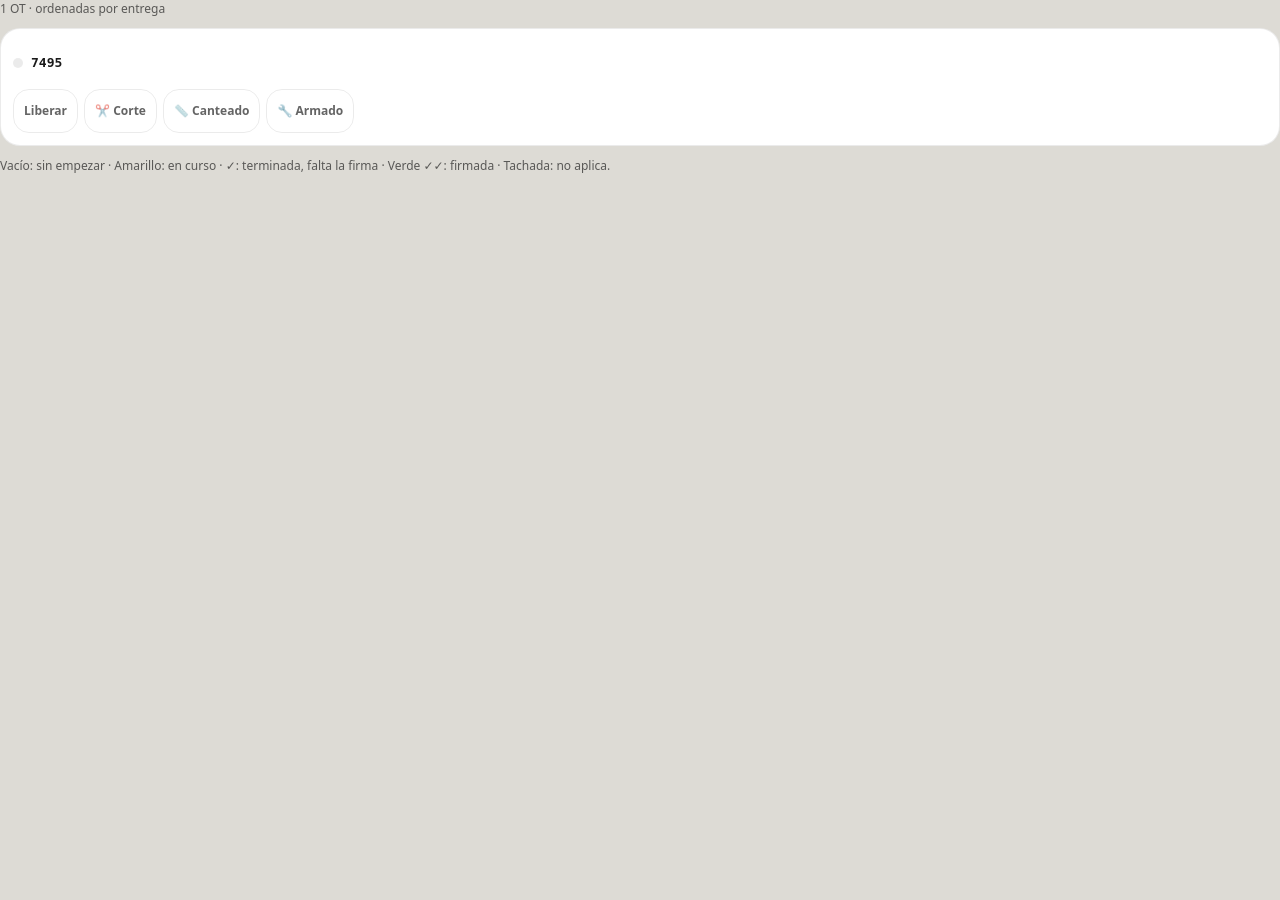
Test: tablero — la condición de cierre de la etapa se ve antes de firmar
The width and height of the screenshot is (1280, 900).
Click the button with aria-label "Armado de la OT 7495: Pendiente".
click(310, 111)  # box [266,89,354,133]
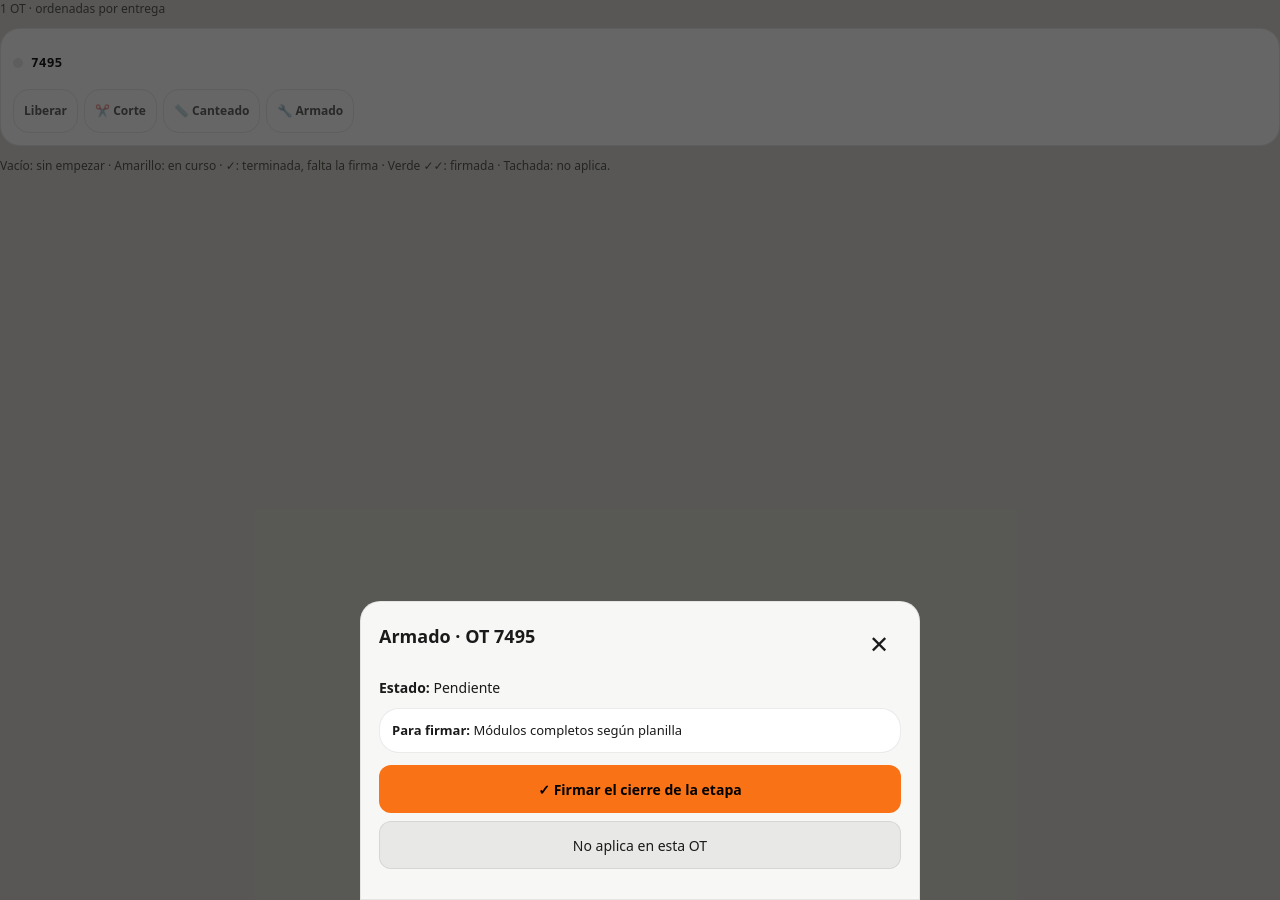
Expected: the text "Para firmar: Módulos completos según planilla" is shown, [379,708,901,753]
